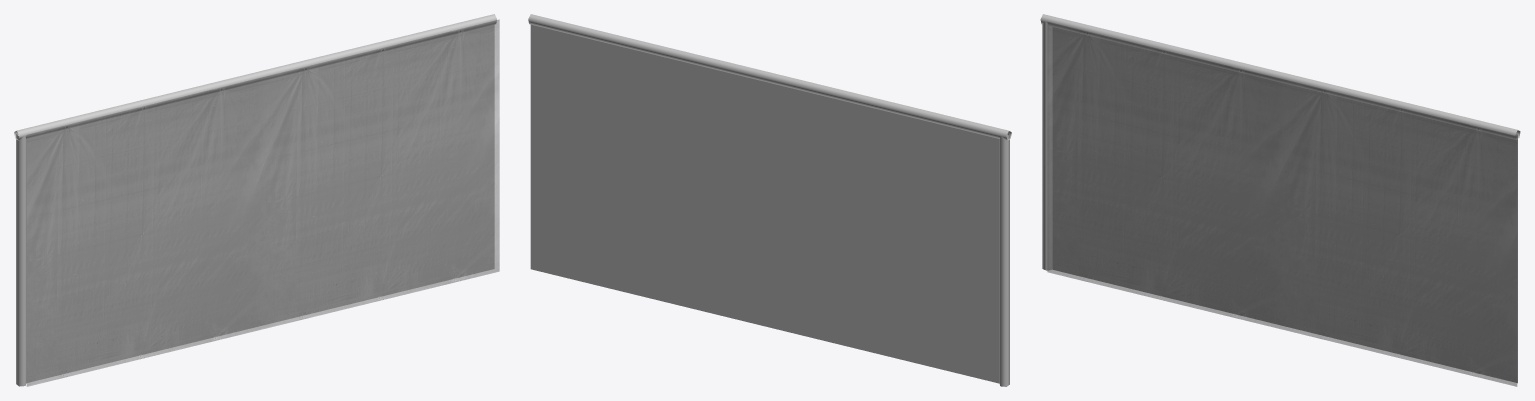
The model's file is Mesh Fence.FBX.
The picture shows the model from 3 angles, left to right: view 1: azimuth 30°, elevation 25°; view 2: azimuth 150°, elevation 25°; view 3: azimuth 330°, elevation 25°; orthographic projection.
Visible parts, largest first — view 1: Mesh Fence; view 2: Mesh Fence; view 3: Mesh Fence.
Boxes of the visible parts, <box> form: Mesh Fence: <box>14,14,499,386</box>; Mesh Fence: <box>528,14,1011,386</box>; Mesh Fence: <box>1040,14,1520,386</box>.
Bounding box in the file's own units: 100 × 51.21 × 1.98.
